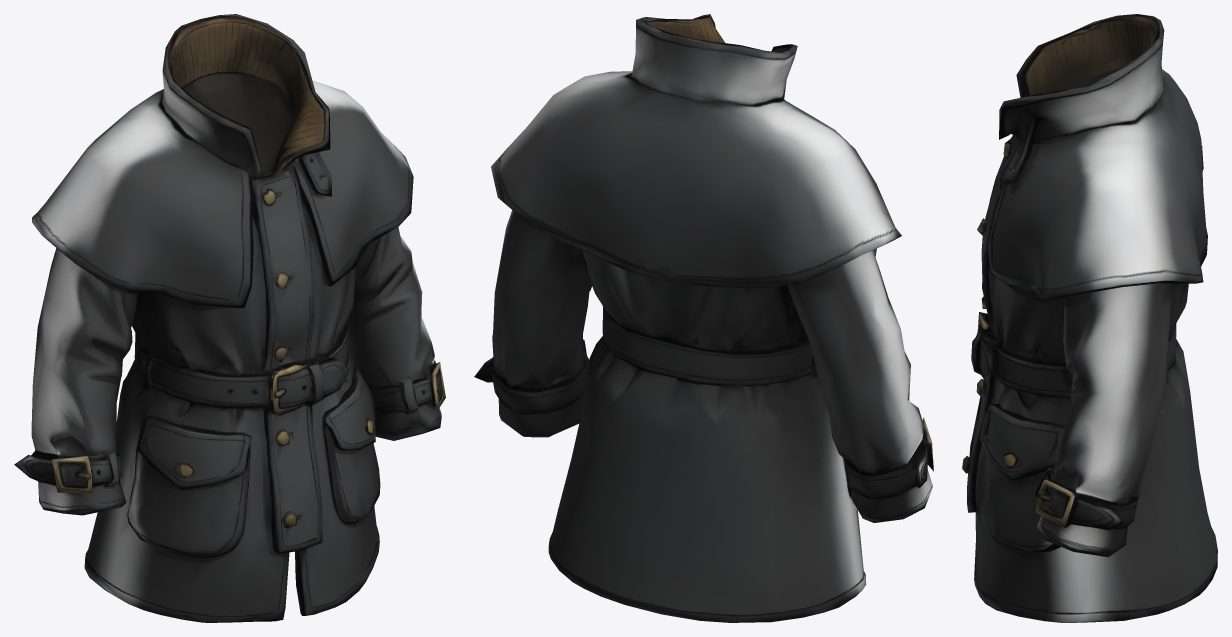
The model's file is PIPELINE3D-arm_oilskin_coat-batch2-13-delivery-model-fbx-64f4952dca47-c58a6f262c4e.fbx.
The picture shows the model from 3 angles, left to right: view 1: azimuth 30°, elevation 25°; view 2: azimuth 150°, elevation 25°; view 3: azimuth 270°, elevation 25°; orthographic projection. The views are drawn at different scales.
Visible parts, largest first — view 1: tripo_node_8418791b-ba7f-4592-85c9-1e2a3180c4c1; view 2: tripo_node_8418791b-ba7f-4592-85c9-1e2a3180c4c1; view 3: tripo_node_8418791b-ba7f-4592-85c9-1e2a3180c4c1.
Part boxes in pixels (bbox=[...]): tripo_node_8418791b-ba7f-4592-85c9-1e2a3180c4c1: bbox=[14, 14, 445, 622]; tripo_node_8418791b-ba7f-4592-85c9-1e2a3180c4c1: bbox=[474, 14, 933, 622]; tripo_node_8418791b-ba7f-4592-85c9-1e2a3180c4c1: bbox=[962, 14, 1217, 622].
Size of the model in its own units: 97.67 by 120 by 50.85.
Materials: 1 (1 with a texture image).
